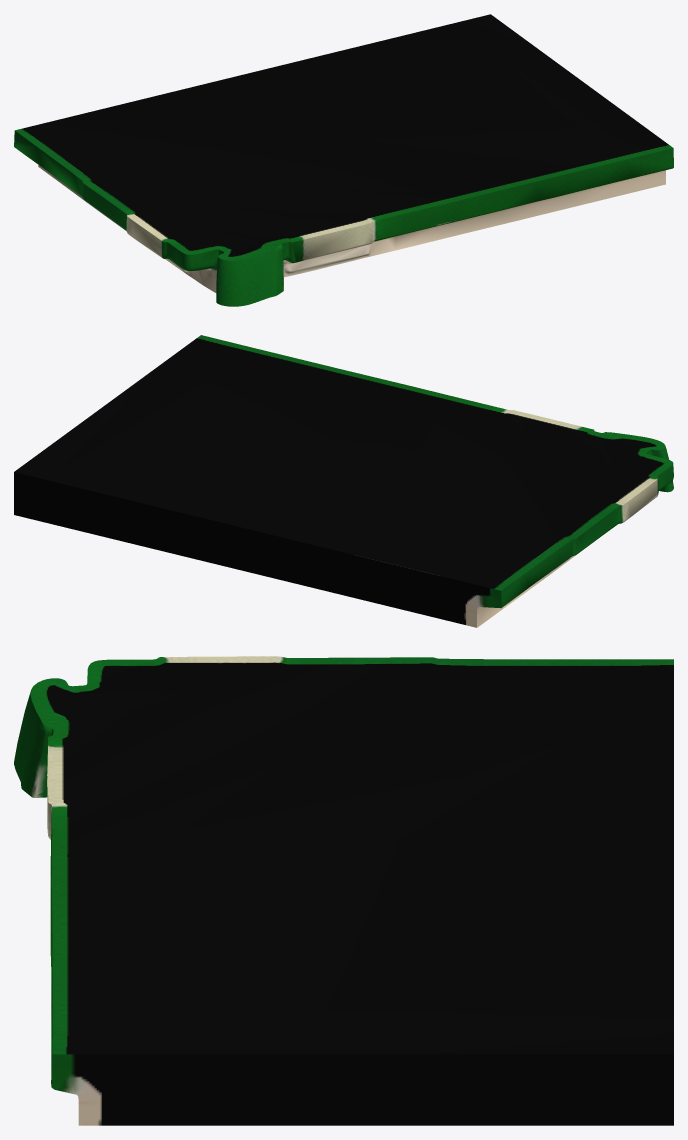
File: 9-roof-front-left.fbx
The picture shows the model from 3 angles, top to bottom: view 1: azimuth 30°, elevation 25°; view 2: azimuth 150°, elevation 25°; view 3: azimuth 270°, elevation 25°; orthographic projection. The views are drawn at different scales.
Visible parts, largest first — view 1: roof-front-left; view 2: roof-front-left; view 3: roof-front-left.
Part boxes in pixels (bbox=[...]): roof-front-left: bbox=[14, 14, 673, 306]; roof-front-left: bbox=[14, 335, 673, 627]; roof-front-left: bbox=[14, 656, 673, 1125].
Bounding box in the file's own units: 8705 × 728 × 6099.
Materials: 1 (1 with a texture image).
